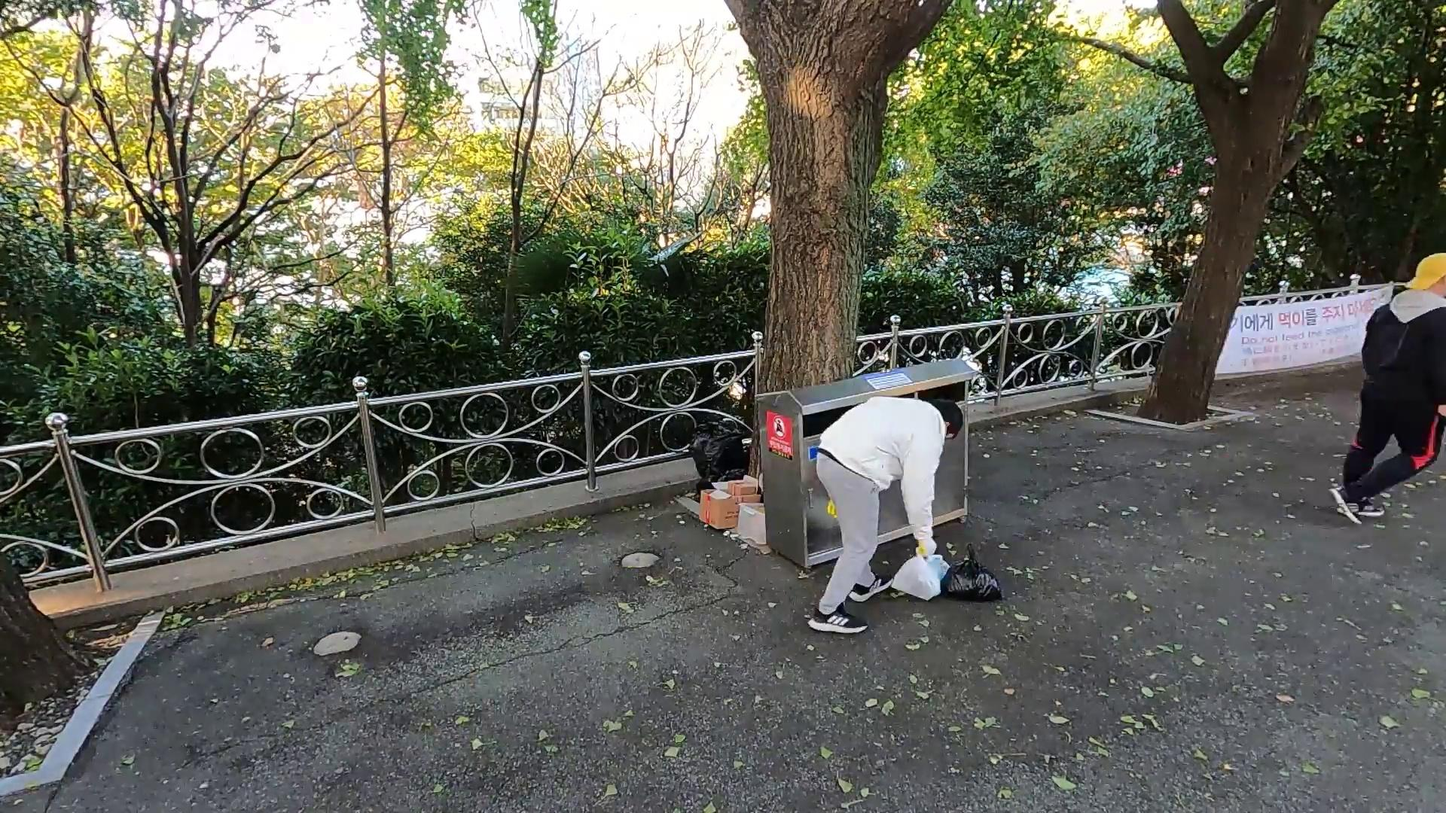person: (799, 388, 971, 635), (1327, 246, 1446, 535)
trash: (935, 540, 1005, 607), (891, 549, 949, 603)
